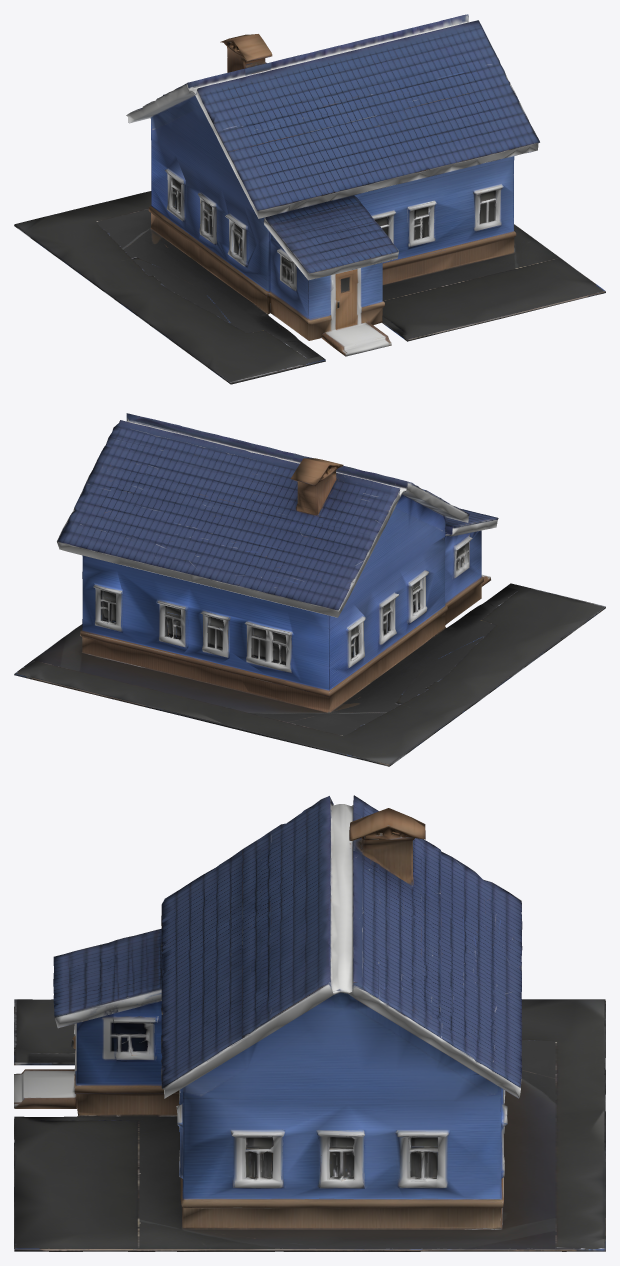
3 renders of one model, top to bottom at view 1: azimuth 30°, elevation 25°; view 2: azimuth 150°, elevation 25°; view 3: azimuth 270°, elevation 25°, orthographic. The views are drawn at different scales.
Parts seen in each view (by area): view 1: Mesh_0; view 2: Mesh_0; view 3: Mesh_0.
Boxes of the visible parts, x1=… form: Mesh_0: x1=14, y1=14, x2=605, y2=384; Mesh_0: x1=14, y1=413, x2=605, y2=766; Mesh_0: x1=14, y1=795, x2=605, y2=1251.
Size of the model in its own units: 191 by 102 by 191.
Materials: 1 (1 with a texture image).
